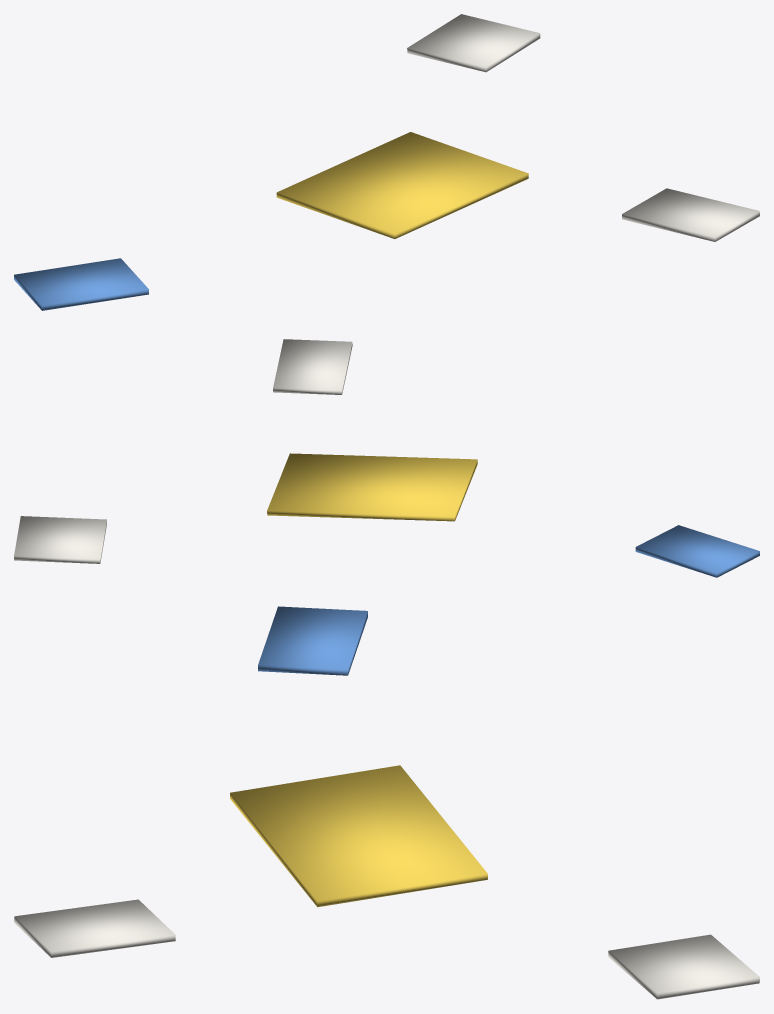
Rendered from litter_b.glb.
3 renders of one model, top to bottom at view 1: azimuth 30°, elevation 25°; view 2: azimuth 150°, elevation 25°; view 3: azimuth 270°, elevation 25°, orthographic. The views are drawn at different scales.
Visible parts, largest first — view 1: litter_b; view 2: litter_b; view 3: litter_b.
Part boxes in pixels (bbox=[...]): litter_b: bbox=[14, 14, 759, 310]; litter_b: bbox=[14, 339, 759, 577]; litter_b: bbox=[14, 606, 759, 999].
Bounding box in the file's own units: 0.7935 × 0.0318 × 0.6562.
